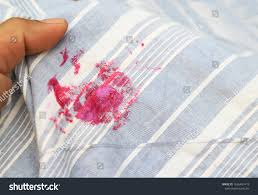lipstick: (47, 74, 129, 129), (91, 65, 130, 92), (58, 48, 91, 78)
